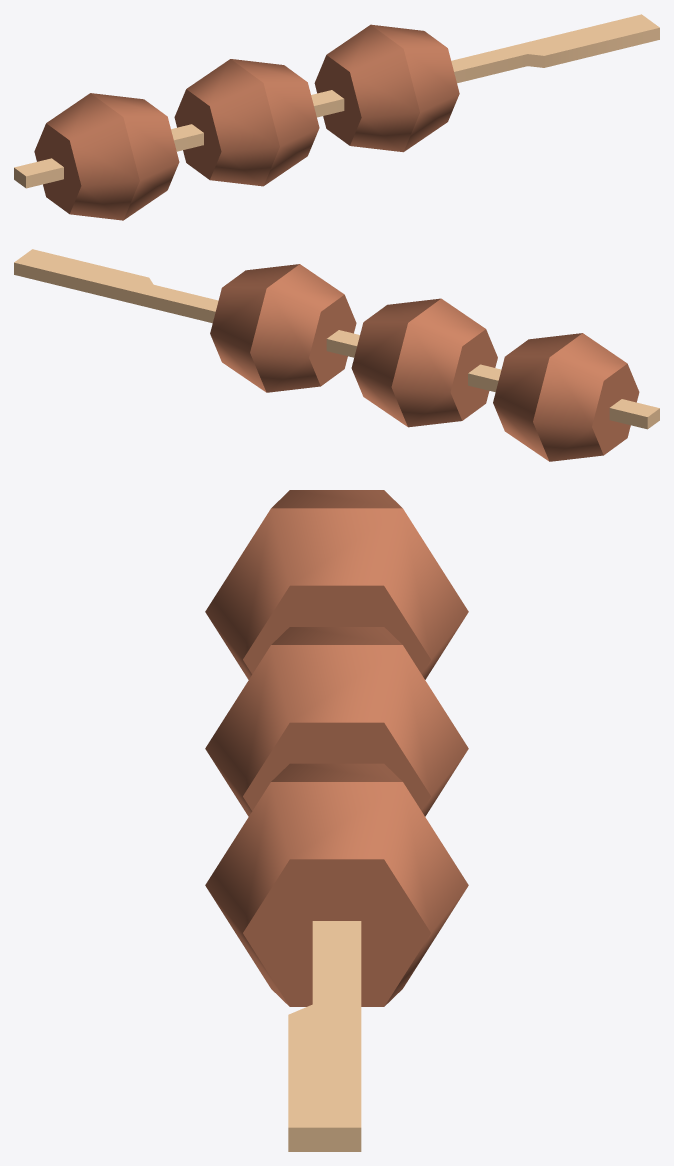
File: skewer.obj
3 views of the same model, one above another, from view 1: azimuth 30°, elevation 25°; view 2: azimuth 150°, elevation 25°; view 3: azimuth 270°, elevation 25° (orthographic). The views are drawn at different scales.
Visible parts, largest first — view 1: meat, skewer; view 2: meat, skewer; view 3: meat, skewer.
Boxes of the visible parts, <box> form: meat: <box>34,24,459,220</box>; skewer: <box>14,14,659,188</box>; meat: <box>210,264,639,461</box>; skewer: <box>14,249,659,429</box>; meat: <box>205,490,468,1006</box>; skewer: <box>288,921,361,1151</box>.
Bounding box in the file's own units: 0.5967 × 0.094 × 0.1085.
